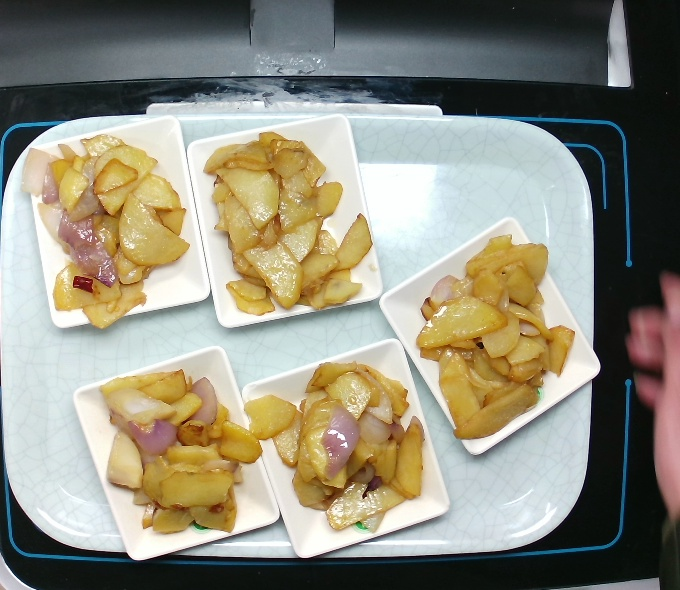wcq-TuDouPian: (18, 127, 195, 329), (407, 233, 578, 439), (246, 354, 430, 535), (201, 130, 374, 316), (98, 367, 264, 536)
